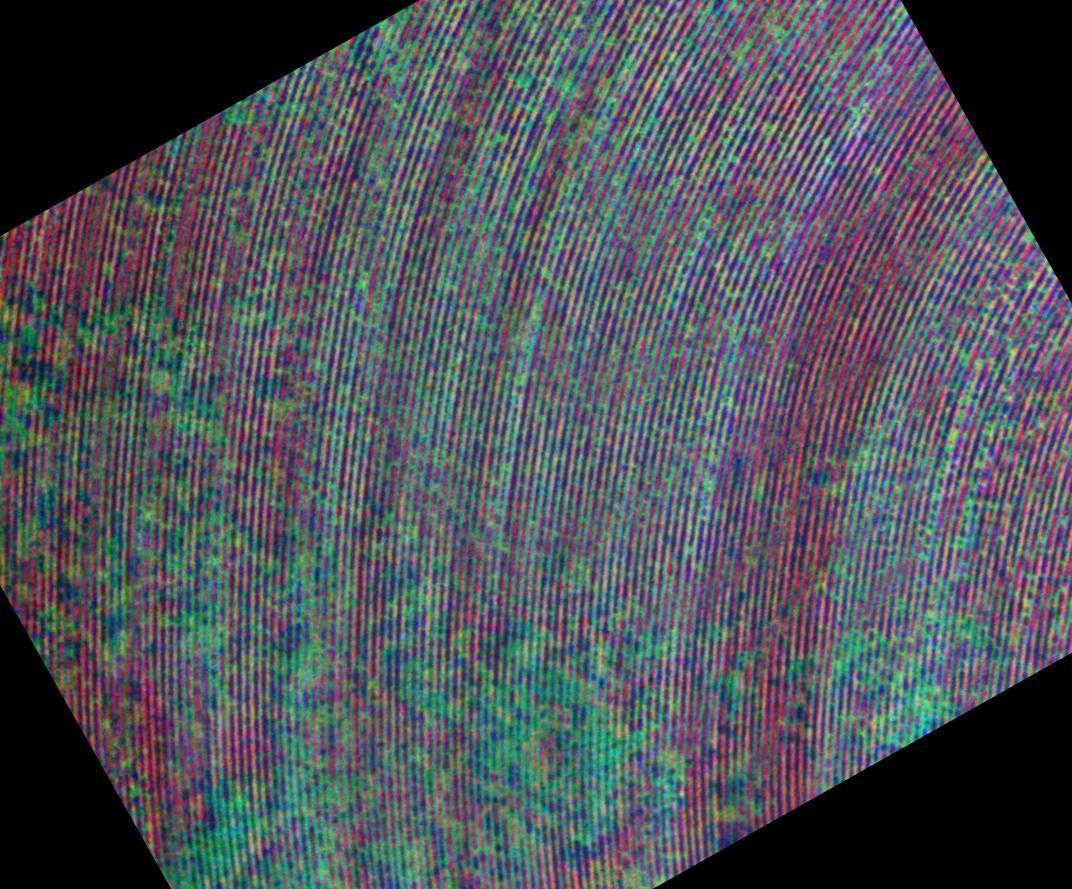dc: (446, 629, 647, 840), (183, 783, 411, 889), (268, 539, 344, 771), (162, 507, 244, 688), (0, 284, 65, 466), (142, 307, 227, 445), (831, 624, 939, 732)
